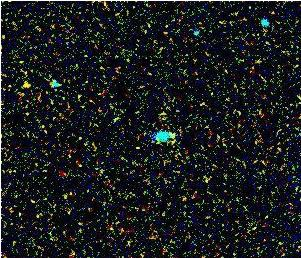star: (13, 70, 43, 100)
